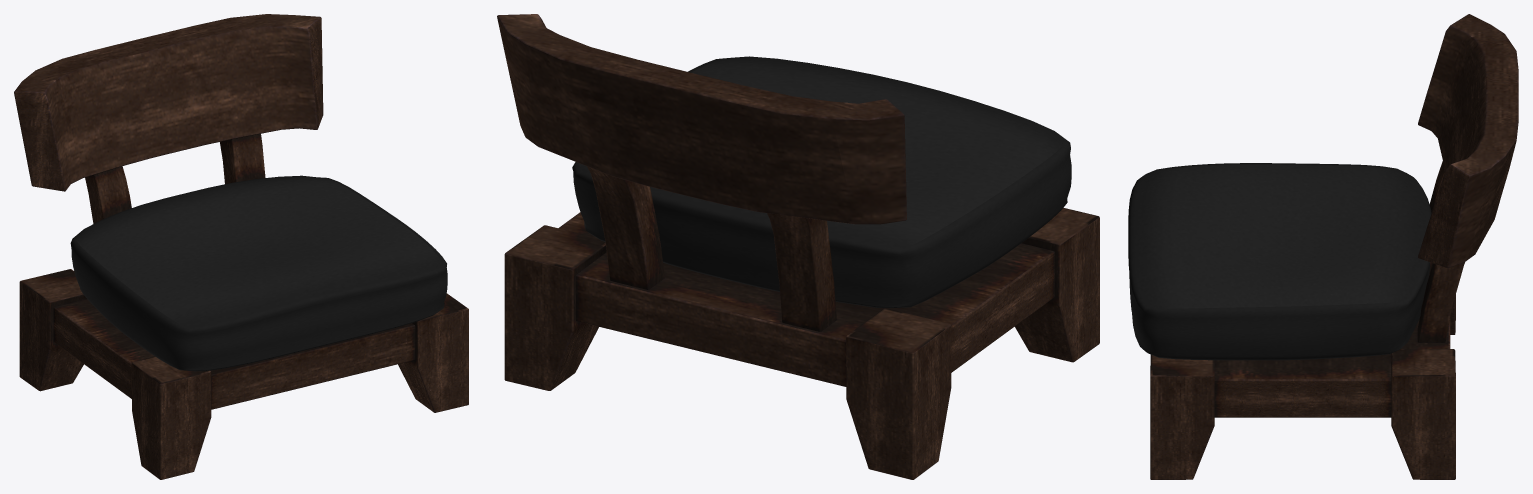
Rendered from chair3.fbx.
The picture shows the model from 3 angles, left to right: view 1: azimuth 30°, elevation 25°; view 2: azimuth 150°, elevation 25°; view 3: azimuth 270°, elevation 25°; orthographic projection. The views are drawn at different scales.
Visible parts, largest first — view 1: pCube1, pCube2; view 2: pCube1, pCube2; view 3: pCube2, pCube1.
Part boxes in pixels (box(x1,y1,x2,y2)): pCube1: box(14, 14, 468, 479); pCube2: box(70, 175, 447, 371); pCube1: box(497, 14, 1099, 479); pCube2: box(572, 56, 1071, 307); pCube2: box(1128, 163, 1431, 360); pCube1: box(1150, 14, 1518, 479).
Size of the model in its own units: 88.14 by 76.54 by 89.15.
1 material, 1 textured.
